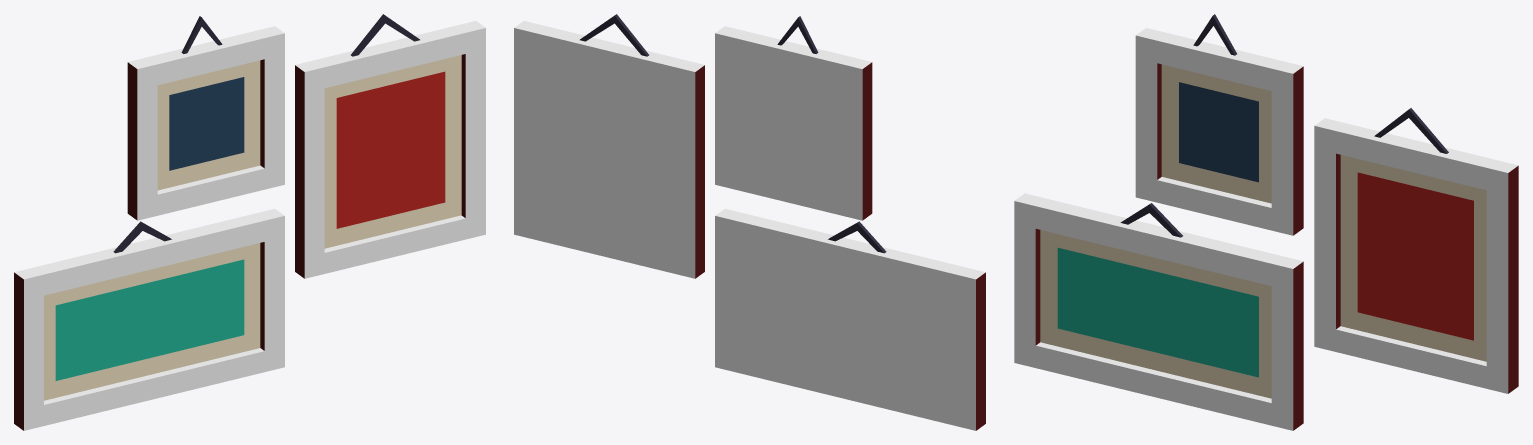
The model's file is frames01.fbx.
3 renders of one model, left to right at view 1: azimuth 30°, elevation 25°; view 2: azimuth 150°, elevation 25°; view 3: azimuth 330°, elevation 25°, orthographic. The views are drawn at different scales.
Parts seen in each view (by area): view 1: frames01; view 2: frames01; view 3: frames01.
Part boxes in pixels (x1,y1,x2,y2): frames01: [14, 14, 485, 430]; frames01: [514, 14, 985, 430]; frames01: [1014, 14, 1518, 430].
Size of the model in its own units: 7.18 by 5.44 by 0.2641.
